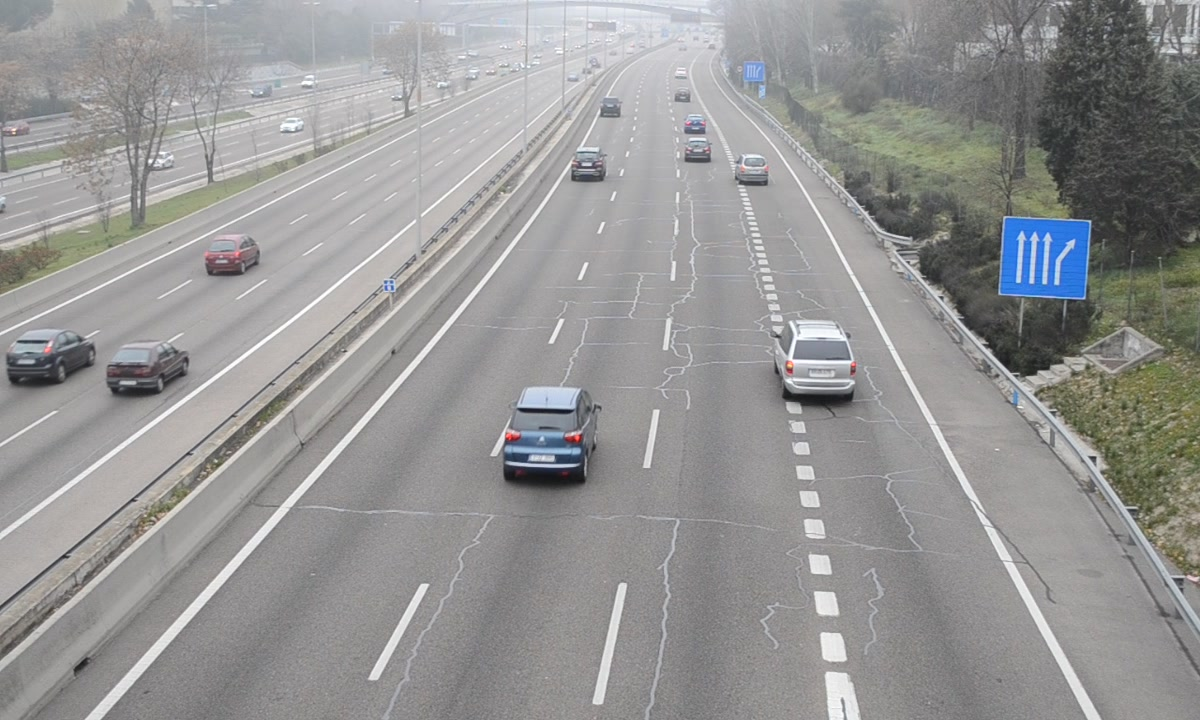car: (504, 387, 597, 476), (777, 321, 854, 396), (571, 147, 606, 183), (735, 153, 770, 187), (684, 136, 712, 164)
